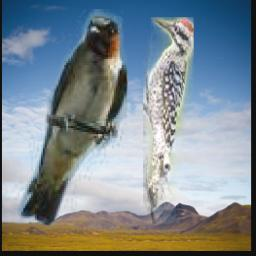Swallow: (15, 10, 128, 227)
Woodpecker: (143, 18, 194, 225)
